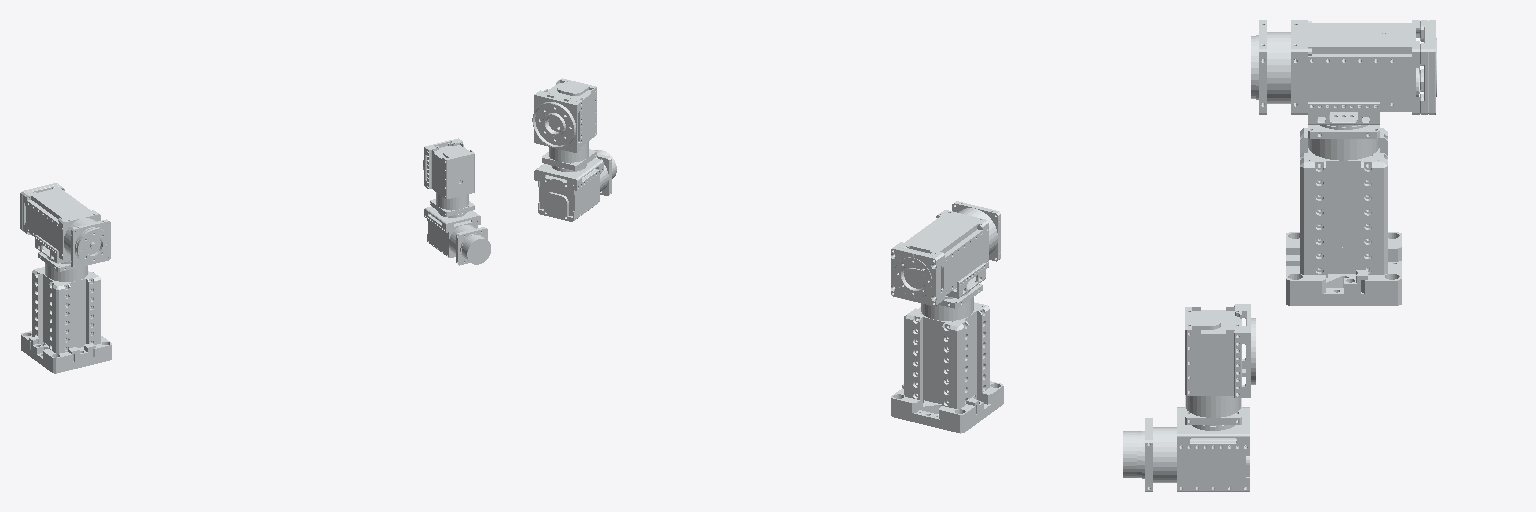
robot.urdf — single_arm_v22_19cm:
<?xml version="1.0" encoding="utf-8"?>
<!-- This URDF was automatically created by SolidWorks to URDF Exporter! Originally created by [author] ([email redacted]) 
     Commit Version: 1.6.0-4-g7f85cfe  Build Version: 1.6.7995.38578
     For more information, please see http://wiki.ros.org/sw_urdf_exporter -->
<robot
  name="single_arm_v22_19cm">
  <link name="dummy"/>
  <joint name="dummy_joint" type="fixed">
    <parent link="dummy"/>
    <child link="base_link"/>
    </joint>
  <link name='base_link'>
  <!-- <link
    name="base_link"> -->
    <inertial>
      <origin
        xyz="-0.00010098 -0.00035109 0.054127"
        rpy="0 0 0" />
      <mass
        value="2.94316" />
      <inertia
        ixx="0.00082016"
        ixy="3.555E-10"
        ixz="-4.1821E-06"
        iyy="0.00081979"
        iyz="-1.4527E-07"
        izz="0.00035328" />
    </inertial>
    <visual>
      <origin
        xyz="0 0 0"
        rpy="0 0 0" />
      <geometry>
        <mesh
          filename="package://single_arm_v22_19cm/meshes/base_link.STL" />
      </geometry>
      <material
        name="">
        <color
          rgba="0.89804 0.91765 0.92941 1" />
      </material>
    </visual>
    <collision>
      <origin
        xyz="0 0 0"
        rpy="0 0 0" />
      <geometry>
        <mesh
          filename="package://single_arm_v22_19cm/meshes/base_link.STL" />
      </geometry>
    </collision>
  </link>
  <link
    name="link1">
    <inertial>
      <origin
        xyz="3.305E-06 0.0036146 0.029085"
        rpy="0 0 0" />
      <mass
        value="0.93428" />
      <inertia
        ixx="0.00048112"
        ixy="-7.0827E-08"
        ixz="-3.5566E-10"
        iyy="0.00018986"
        iyz="4.1821E-06"
        izz="0.0004948" />
    </inertial>
    <visual>
      <origin
        xyz="0 0 0"
        rpy="0 0 0" />
      <geometry>
        <mesh
          filename="package://single_arm_v22_19cm/meshes/link1.STL" />
      </geometry>
      <material
        name="">
        <color
          rgba="0.89804 0.91765 0.92941 1" />
      </material>
    </visual>
    <collision>
      <origin
        xyz="0 0 0"
        rpy="0 0 0" />
      <geometry>
        <mesh
          filename="package://single_arm_v22_19cm/meshes/link1.STL" />
      </geometry>
    </collision>
  </link>
  <joint
    name="joint1"
    type="revolute">
    <origin
      xyz="0 0 0.1445"
      rpy="0 0 0" />
    <parent
      link="base_link" />
    <child
      link="link1" />
    <axis
      xyz="0 0 1" />
    <limit
      lower="-3.14"
      upper="3.14"
      effort="0"
      velocity="0" />
  </joint>
  <link
    name="link2">
    <inertial>
      <origin
        xyz="0.2128581564957513 1.646135446113019e-06 0.012407278181240242"
        rpy="0 0 0" />
      <mass
        value="1.4067641114285714"  />
      <inertia
        ixx="0.0009354044506587581"
        ixy="3.9417575092874916e-08"
        ixz="-0.0006551621120647835"
        iyy="0.0034611999079844536"
        iyz="-1.4069358691068503e-08"
        izz="0.002717487568255342" />
    </inertial>
    <visual>
      <origin
        xyz="0 0 0"
        rpy="0 0 0" />
      <geometry>
        <mesh
          filename="package://dynamics/src/dynamics/meshes/single_arm_v22_19cm_2_19.0.STL" />
      </geometry>
      <material
        name="">
        <color
          rgba="0.89804 0.91765 0.92941 1" />
      </material>
    </visual>
    <collision>
      <origin
        xyz="0 0 0"
        rpy="0 0 0" />
      <geometry>
        <mesh
          filename="package://single_arm_v22_19cm/meshes/link2.STL" />
      </geometry>
    </collision>
  </link>
  <joint
    name="joint2"
    type="revolute">
    <origin
      xyz="0 -0.0685 0.0315"
      rpy="1.5708 0 0" />
    <parent
      link="link1" />
    <child
      link="link2" />
    <axis
      xyz="0 0 1" />
    <limit
      lower="-3.14"
      upper="3.14"
      effort="0"
      velocity="0" />
  </joint>
  <link
    name="link3">
    <inertial>
      <origin
        xyz="0.18456174031042727 1.661355600613535e-07 -0.010833273129287313"
        rpy="0 0 0" />
      <mass
        value="1.1306573171428573"  />
      <inertia
        ixx="0.0007066546120021806"
        ixy="1.2966478903714108e-08"
        ixz="0.0004032273103514373"
        iyy="0.002750976174570803"
        iyz="-5.656649319035686e-10"
        izz="0.0022186586319623814" />
    </inertial>
    <visual>
      <origin
        xyz="0 0 0"
        rpy="0 0 0" />
      <geometry>
        <mesh
          filename="package://dynamics/src/dynamics/meshes/single_arm_v22_19cm_3_19.0.STL" />
      </geometry>
      <material
        name="">
        <color
          rgba="0.89804 0.91765 0.92941 1" />
      </material>
    </visual>
    <collision>
      <origin
        xyz="0 0 0"
        rpy="0 0 0" />
      <geometry>
        <mesh
          filename="package://single_arm_v22_19cm/meshes/link3.STL" />
      </geometry>
    </collision>
  </link>
  <joint
    name="joint3"
    type="revolute">
    <origin
      xyz="0.26754 0 -0.039"
      rpy="0 0 0" />
    <parent
      link="link2" />
    <child
      link="link3" />
    <axis
      xyz="0 0 -1" />
    <limit
      lower="-3.14"
      upper="3.14"
      effort="0"
      velocity="0" />
  </joint>
  <link
    name="link4">
    <inertial>
      <origin
        xyz="2.2204E-16 0.01039 0.02404"
        rpy="0 0 0" />
      <mass
        value="0.36924" />
      <inertia
        ixx="9.4187E-05"
        ixy="1.2869E-19"
        ixz="-1.4501E-16"
        iyy="4.476E-05"
        iyz="5.3346E-07"
        izz="0.0001027" />
    </inertial>
    <visual>
      <origin
        xyz="0 0 0"
        rpy="0 0 0" />
      <geometry>
        <mesh
          filename="package://single_arm_v22_19cm/meshes/link4.STL" />
      </geometry>
      <material
        name="">
        <color
          rgba="0.89804 0.91765 0.92941 1" />
      </material>
    </visual>
    <collision>
      <origin
        xyz="0 0 0"
        rpy="0 0 0" />
      <geometry>
        <mesh
          filename="package://single_arm_v22_19cm/meshes/link4.STL" />
      </geometry>
    </collision>
  </link>
  <joint
    name="joint4"
    type="revolute">
    <origin
      xyz="0.23246 0 0.039"
      rpy="0 0 -3.14159265358979" />
    <parent
      link="link3" />
    <child
      link="link4" />
    <axis
      xyz="0 0 1" />
    <limit
      lower="-3.14"
      upper="3.14"
      effort="0"
      velocity="0" />
  </joint>
  <link
    name="link5">
    <inertial>
      <origin
        xyz="0.028614 0.010457 -3.3307E-16"
        rpy="0 0 0" />
      <mass
        value="0.36821" />
      <inertia
        ixx="0.00010133"
        ixy="5.3346E-07"
        ixz="1.4501E-16"
        iyy="4.3878E-05"
        iyz="-8.1817E-20"
        izz="9.3658E-05" />
    </inertial>
    <visual>
      <origin
        xyz="0 0 0"
        rpy="0 0 0" />
      <geometry>
        <mesh
          filename="package://single_arm_v22_19cm/meshes/link5.STL" />
      </geometry>
      <material
        name="">
        <color
          rgba="0.89804 0.91765 0.92941 1" />
      </material>
    </visual>
    <collision>
      <origin
        xyz="0 0 0"
        rpy="0 0 0" />
      <geometry>
        <mesh
          filename="package://single_arm_v22_19cm/meshes/link5.STL" />
      </geometry>
    </collision>
  </link>
  <joint
    name="joint5"
    type="revolute">
    <origin
      xyz="0 0.052 0.0286"
      rpy="1.5707963267949 0 1.5707963267949" />
    <parent
      link="link4" />
    <child
      link="link5" />
    <axis
      xyz="1 0 0" />
    <limit
      lower="-3.14"
      upper="3.14"
      effort="0"
      velocity="0" />
  </joint>
  <link
    name="link6">
    <inertial>
      <origin
        xyz="-4.44089209850063E-16 5.37938091366846E-07 -0.00700006055550936"
        rpy="0 0 0" />
      <mass
        value="0.0259770442543706" />
      <inertia
        ixx="2.20534281951167E-06"
        ixy="1.78671012311437E-22"
        ixz="-8.79317315621994E-22"
        iyy="2.20534281951168E-06"
        iyz="2.32583060538047E-20"
        izz="3.9777349014505E-06" />
    </inertial>
    <visual>
      <origin
        xyz="0 0 0"
        rpy="0 0 0" />
      <geometry>
        <mesh
          filename="package://single_arm_v22_19cm/meshes/link6.STL" />
      </geometry>
      <material
        name="">
        <color
          rgba="0.898039215686275 0.917647058823529 0.929411764705882 1" />
      </material>
    </visual>
    <collision>
      <origin
        xyz="0 0 0"
        rpy="0 0 0" />
      <geometry>
        <mesh
          filename="package://single_arm_v22_19cm/meshes/link6.STL" />
      </geometry>
    </collision>
  </link>
  <joint
    name="joint6"
    type="revolute">
    <origin
      xyz="0.0330005379381037 0.0549999394444907 0"
      rpy="1.57079632679488 -1.5707963267949 0" />
    <parent
      link="link5" />
    <child
      link="link6" />
    <axis
      xyz="0 0 1" />
    <limit
      lower="-3.14"
      upper="3.14"
      effort="0"
      velocity="0" />
  </joint>
</robot>

--- Facts derived from the render (not from the file) ---
3 views of the same robot in one strip: view 1: azimuth 30°, elevation 25°; view 2: azimuth 150°, elevation 25°; view 3: azimuth 270°, elevation 25° (orthographic).
Model single_arm_v22_19cm with 8 links and 7 joints (6 revolute, 1 fixed), rooted at dummy, posed every joint at zero.
Visible links, largest first — view 1: base_link, link1, link4, link5, link6; view 2: base_link, link1, link4, link5; view 3: base_link, link1, link4, link5, link6.
Link boxes in pixels (x1,y1,x2,y2): base_link: (21, 252, 111, 373); link1: (20, 183, 110, 268); link4: (423, 138, 474, 216); link5: (424, 206, 487, 265); link6: (463, 236, 490, 264); base_link: (891, 284, 1003, 433); link1: (891, 201, 1000, 306); link4: (532, 78, 596, 170); link5: (534, 154, 611, 221); base_link: (1286, 125, 1401, 305); link1: (1251, 20, 1436, 124); link4: (1185, 304, 1255, 425); link5: (1137, 407, 1249, 491); link6: (1123, 431, 1136, 477).
Size in the robot's own frame: 0.568 by 0.2331 by 0.203 metres.
Meshes: 7 distinct files referenced, 5 mesh visuals loaded (5 binary STL); not drawn: 2 (reference not matched to a file when rendering).